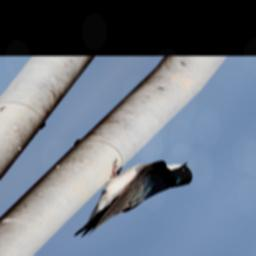Swallow: (53, 138, 202, 256)
